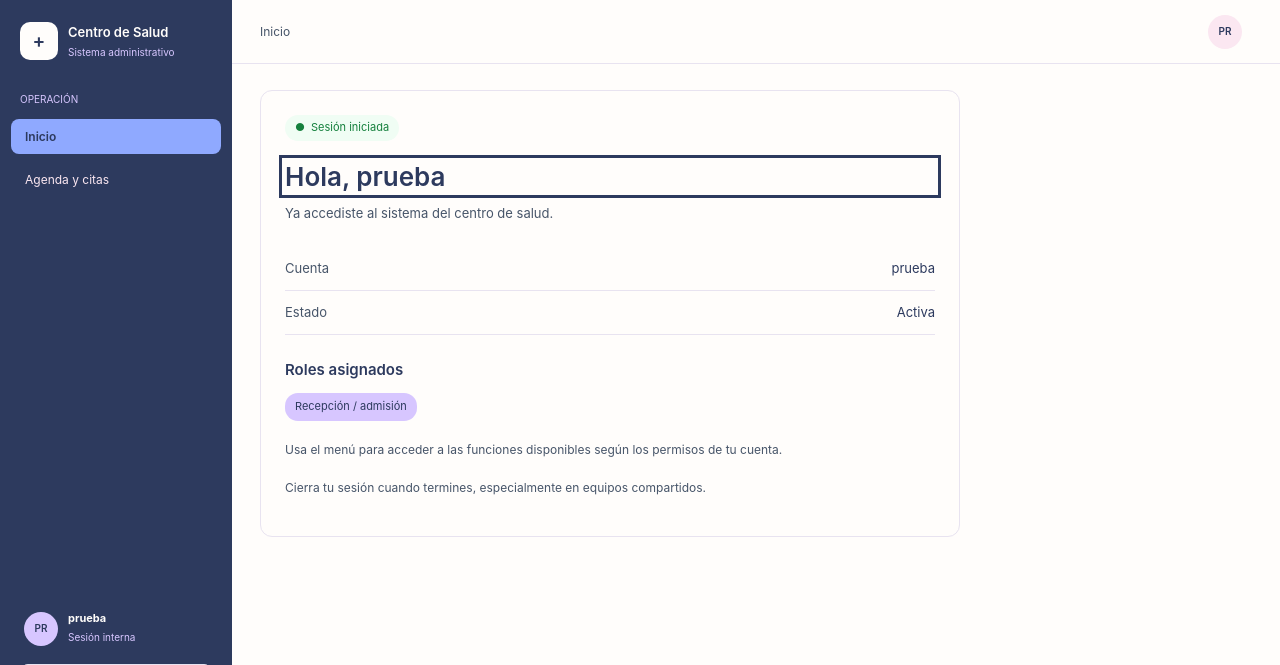
Test case: Agenda de citas › abre citas desde el menú integrado y las retira al revocar el permiso
The image size is (1280, 665).
Click the button "Agenda y citas": (116, 180) x1=11 y1=162 x2=221 y2=197
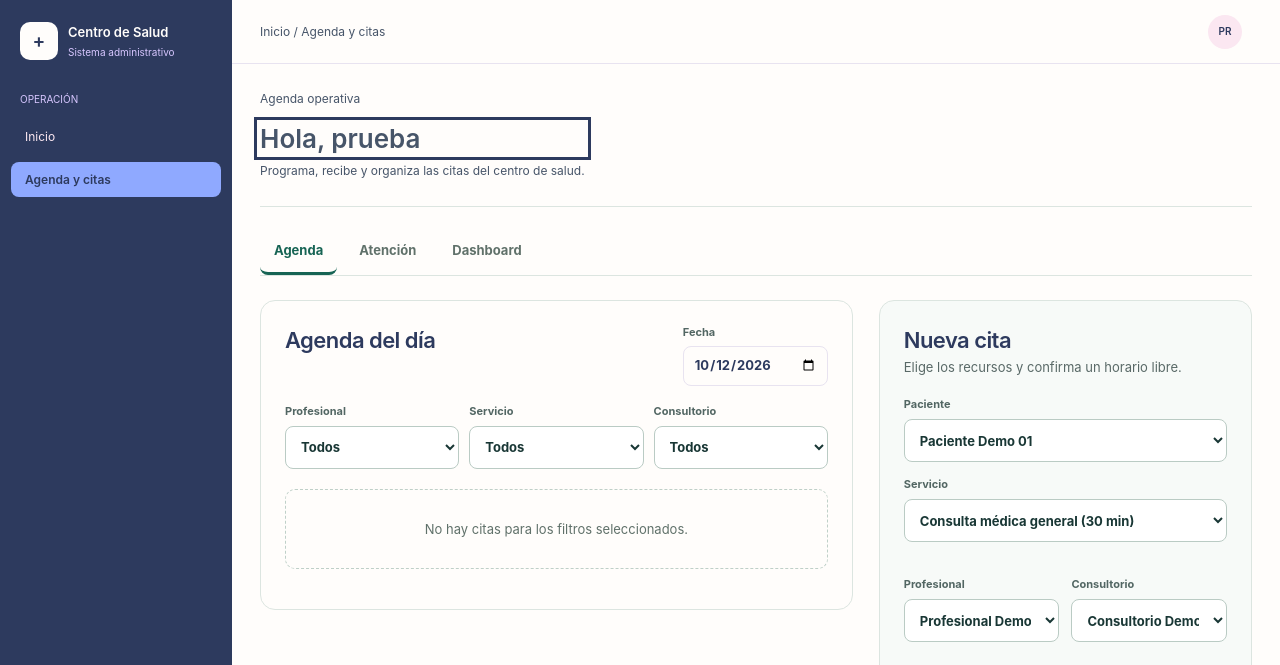
Now the heading "Nueva cita" is shown, box x1=904 y1=327 x2=1011 y2=353
